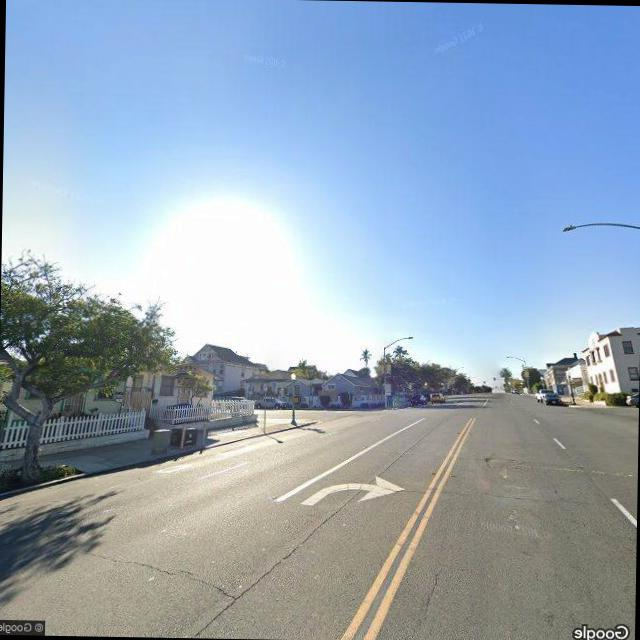crack: (88, 547, 241, 598), (420, 563, 446, 637)
